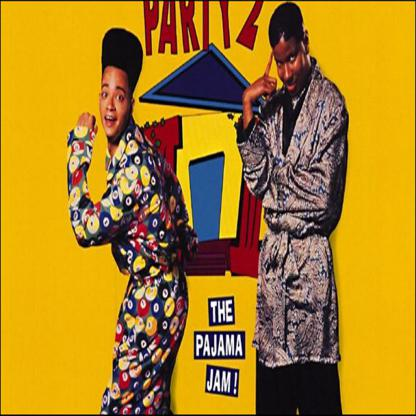face: (104, 66, 133, 137), (273, 41, 305, 98)
